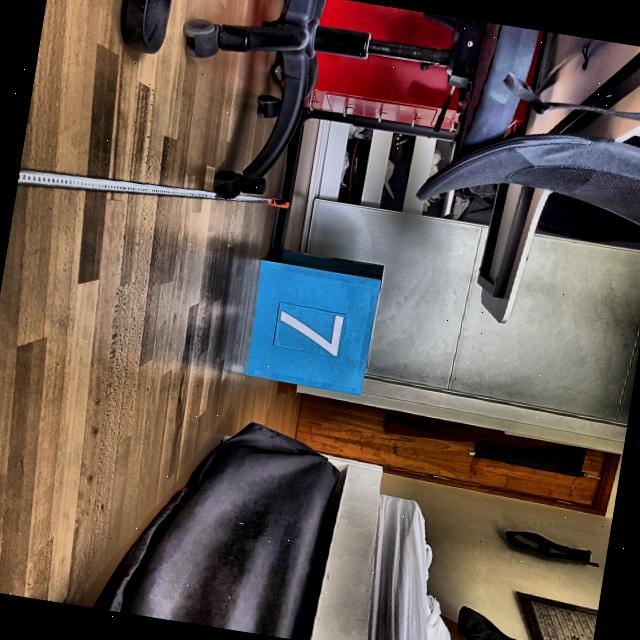blue box: (242, 243, 386, 399)
seven: (274, 304, 348, 359)
